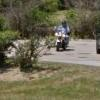Motorcycle: (49, 14, 71, 54)
